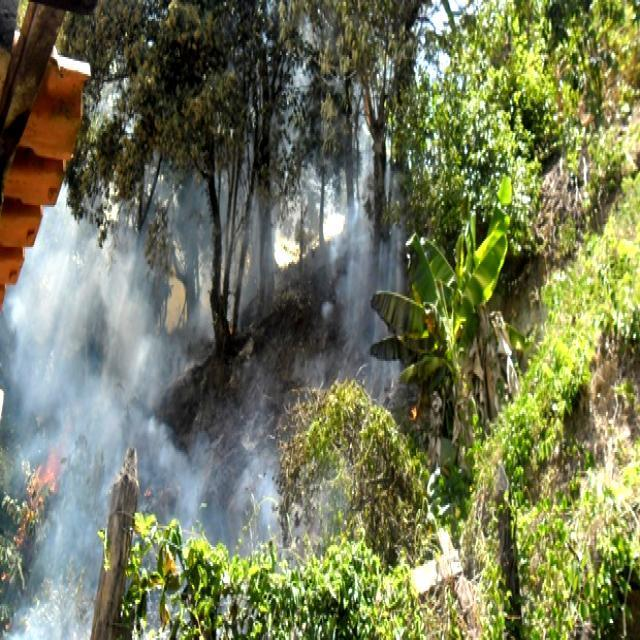Smoke: (5, 166, 388, 640)
